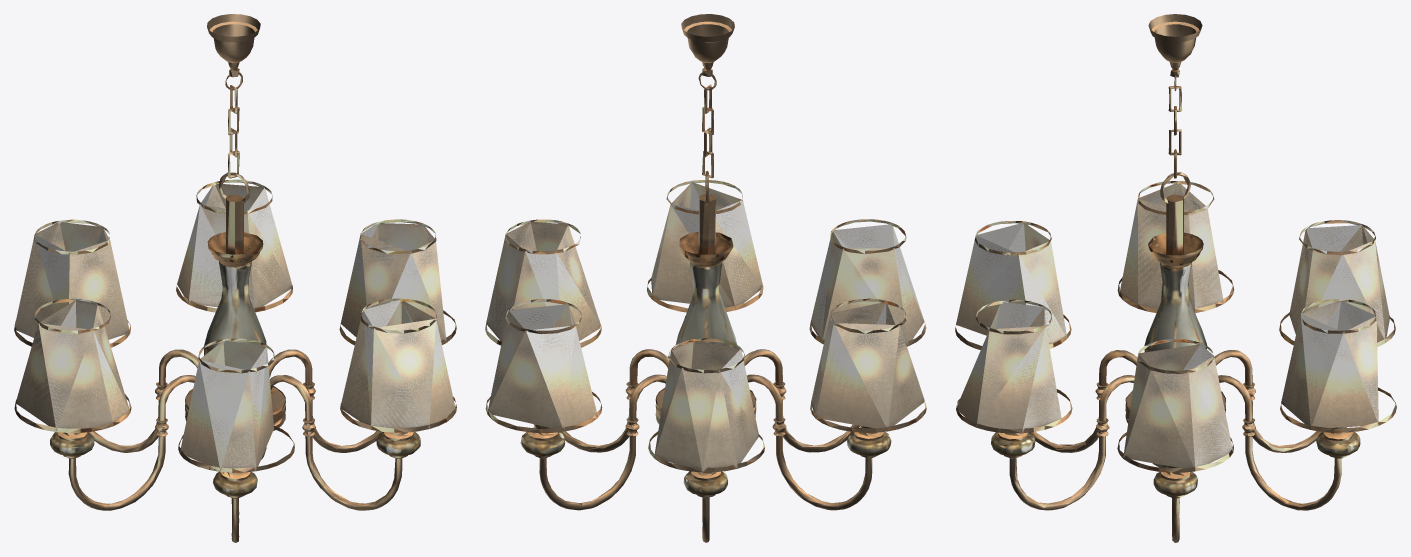
3 views of the same model, side by side, from view 1: azimuth 30°, elevation 25°; view 2: azimuth 150°, elevation 25°; view 3: azimuth 270°, elevation 25° (orthographic).
Parts seen in each view (by area): view 1: glass_003, solid_001, glass_001; view 2: glass_003, solid_001, glass_001; view 3: glass_003, solid_001, glass_001.
Boxes of the visible parts, box(x1,y1,x2,y2) form: glass_003: box(14, 183, 455, 470); solid_001: box(14, 14, 456, 542); glass_001: box(50, 261, 420, 496); glass_003: box(486, 182, 924, 471); solid_001: box(485, 14, 926, 542); glass_001: box(520, 261, 891, 495); glass_003: box(956, 182, 1389, 470); solid_001: box(955, 14, 1396, 542); glass_001: box(991, 262, 1360, 496).
Size of the model in its own units: 1.32 by 1.34 by 1.18.
1 material, 1 textured.
